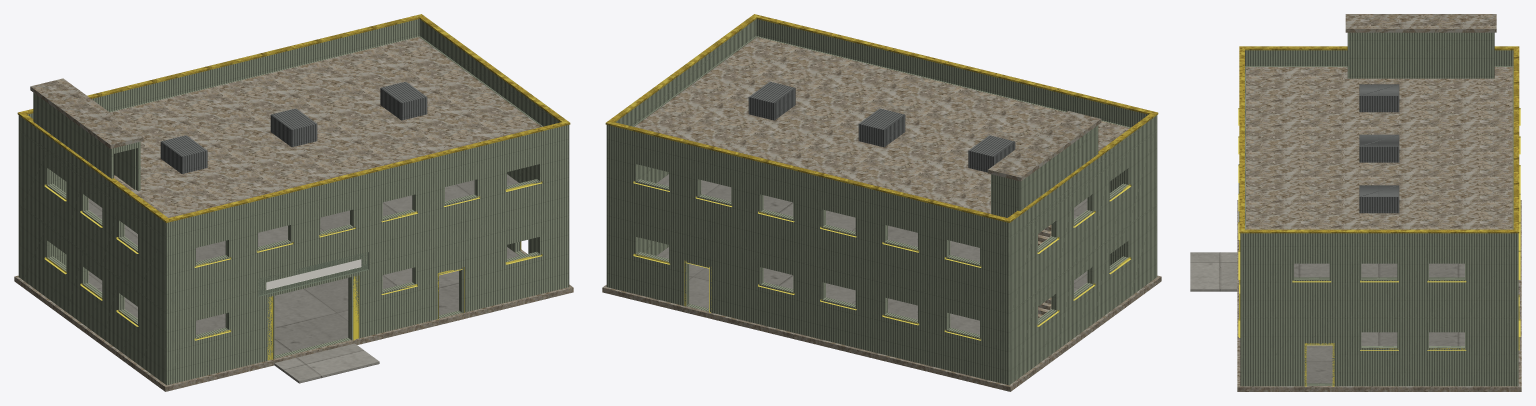
The model's file is mb-armory.garrison-v2.lod0.glb.
3 renders of one model, left to right at view 1: azimuth 30°, elevation 25°; view 2: azimuth 150°, elevation 25°; view 3: azimuth 270°, elevation 25°, orthographic. The views are drawn at different scales.
Visible parts, largest first — view 1: mb-armory; view 2: mb-armory; view 3: mb-armory.
Boxes of the visible parts, <box> form: mb-armory: <box>14,14,573,391</box>; mb-armory: <box>602,14,1161,391</box>; mb-armory: <box>1190,14,1521,391</box>.
Size of the model in its own units: 22.3 by 10.66 by 16.65.
4 materials, 3 textured.
